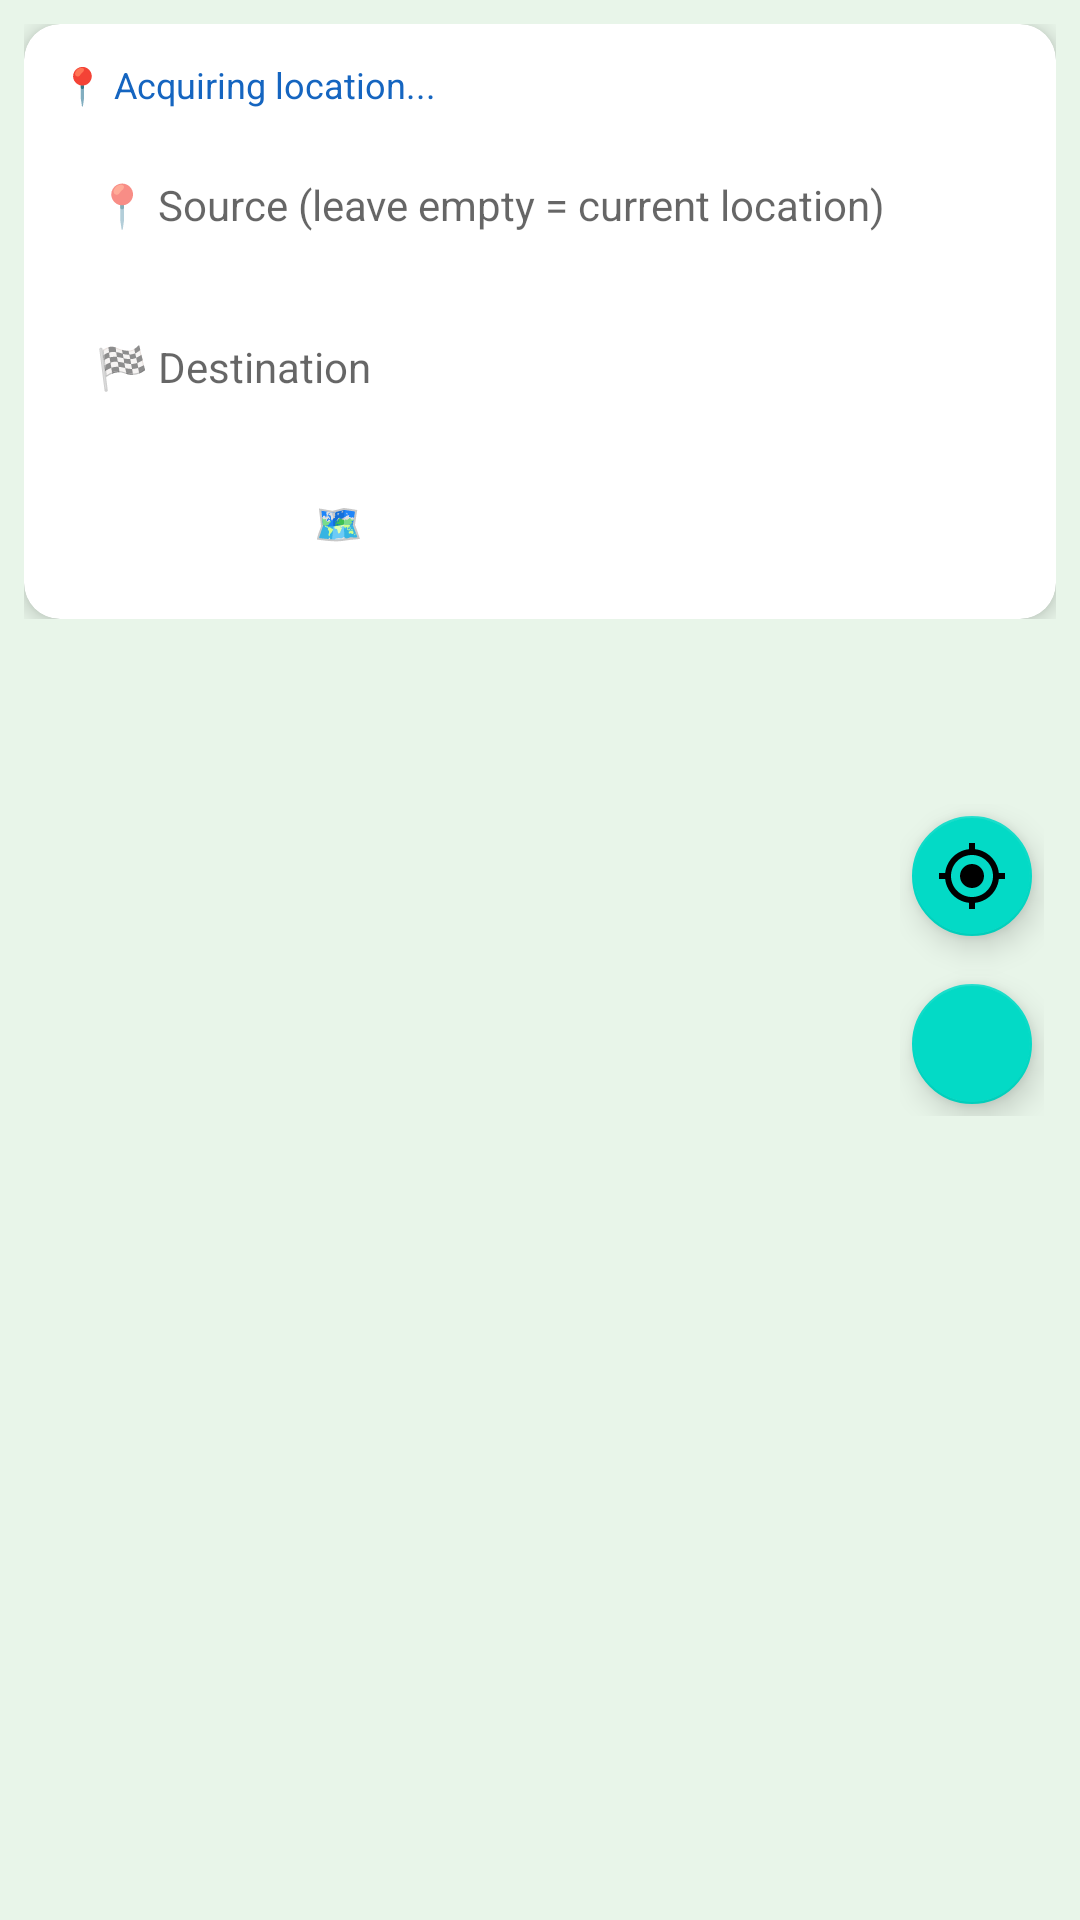

Icon click points for this 1080*1920 phone screenshot, format (x,y):
location: (973,879)
